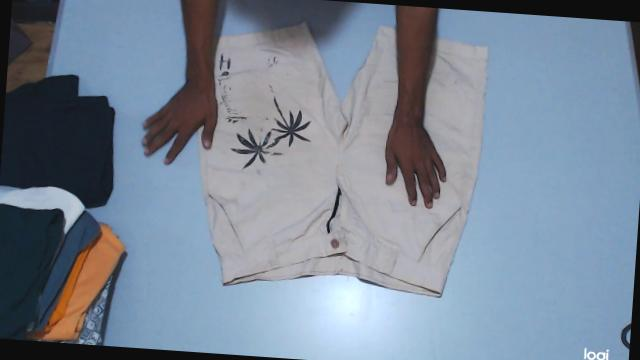new-garment: (199, 23, 486, 295)
